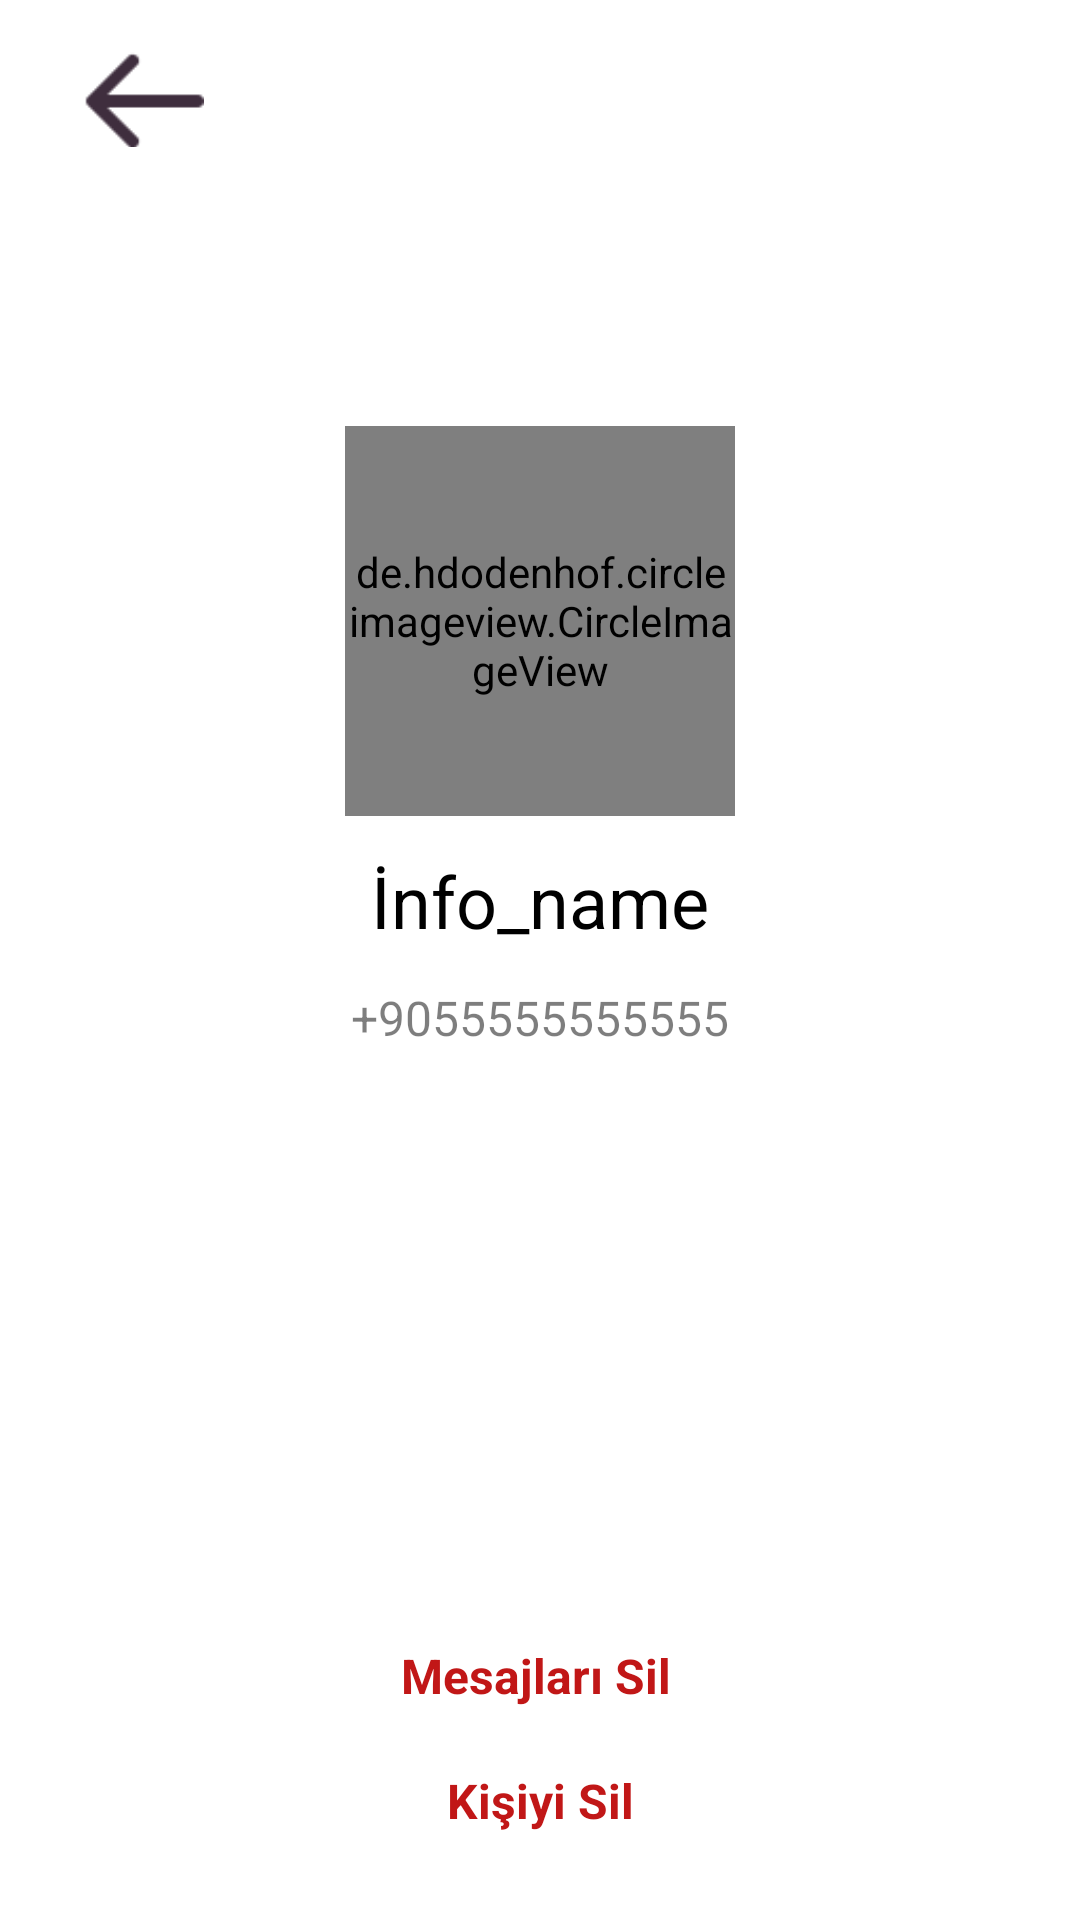

Icons on this 1080 x 1920 Android screen, each with its box as (x1,y1,x2,y2):
back: (85,54,204,147)
